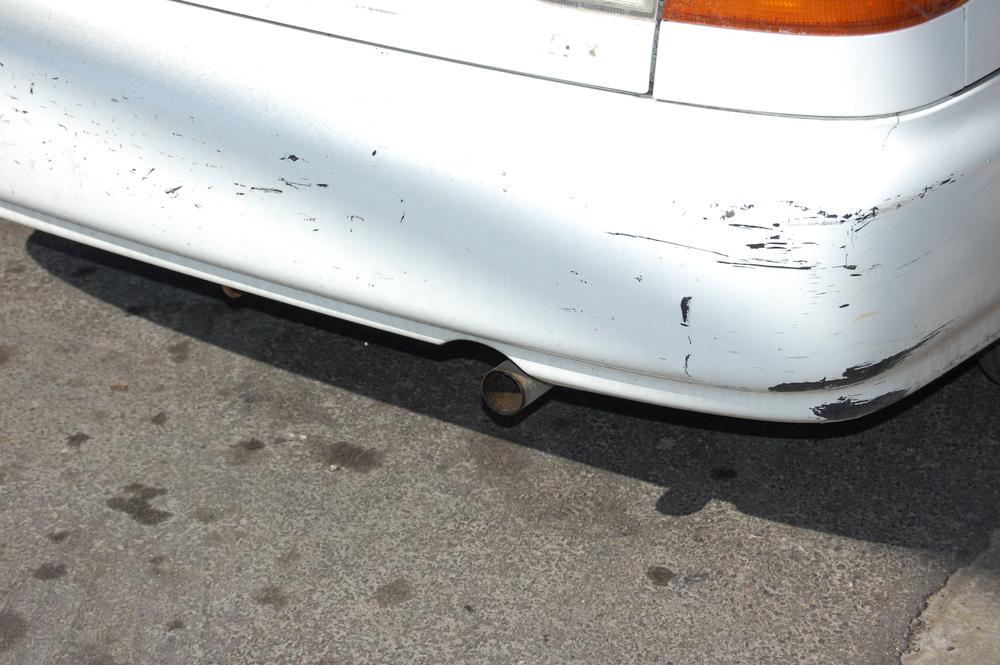scratch: (563, 169, 964, 421), (0, 52, 423, 231)
